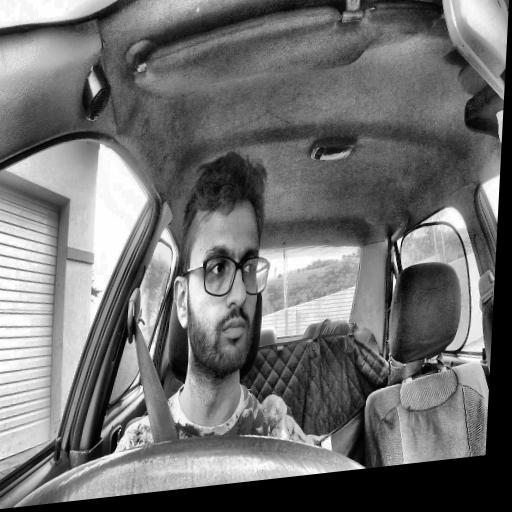awake: (168, 148, 275, 390)
